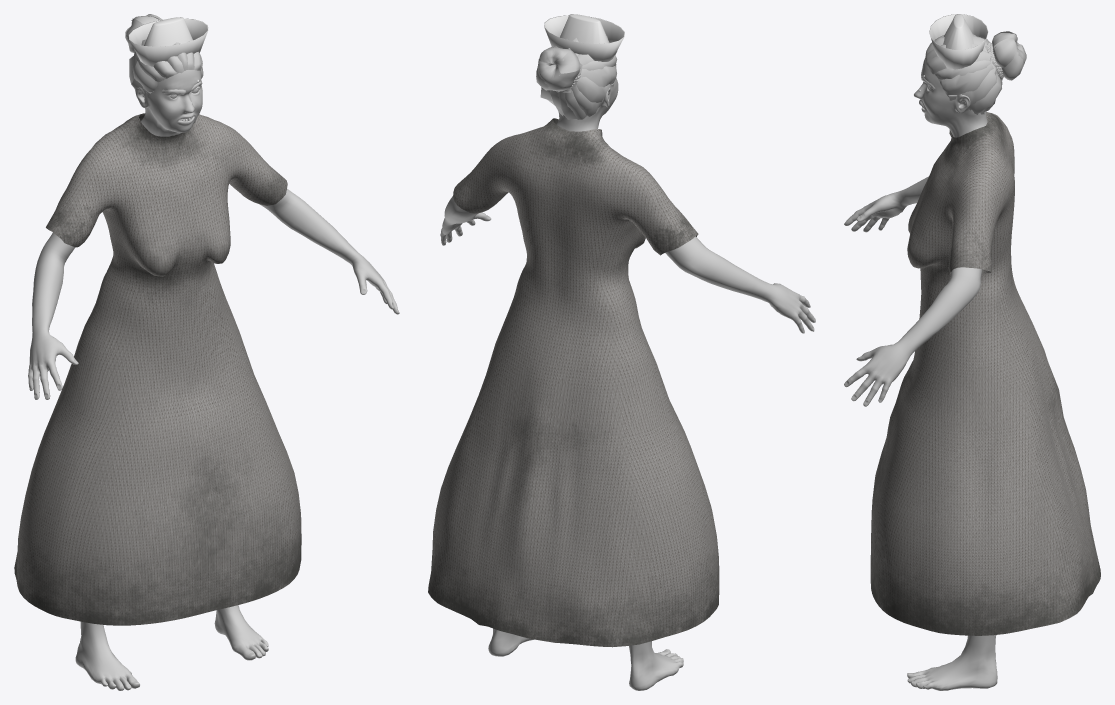
The model's file is Enfermeira.fbx.
3 views of the same model, side by side, from view 1: azimuth 30°, elevation 25°; view 2: azimuth 150°, elevation 25°; view 3: azimuth 270°, elevation 25° (orthographic).
Visible parts, largest first — view 1: Vestido, enfermeira-base, Chapeu, cabelo-wig_bun_blonde; view 2: Vestido, enfermeira-base, cabelo-wig_bun_blonde, Chapeu; view 3: Vestido, enfermeira-base, cabelo-wig_bun_blonde, Chapeu.
Boxes of the visible parts, bbox=[...] form: Vestido: bbox=[14, 113, 301, 625]; enfermeira-base: bbox=[28, 70, 399, 690]; Chapeu: bbox=[128, 17, 208, 66]; cabelo-wig_bun_blonde: bbox=[125, 14, 203, 97]; Vestido: bbox=[428, 118, 719, 647]; enfermeira-base: bbox=[440, 64, 815, 690]; cabelo-wig_bun_blonde: bbox=[536, 36, 617, 119]; Chapeu: bbox=[544, 14, 624, 61]; Vestido: bbox=[870, 112, 1100, 635]; enfermeira-base: bbox=[844, 58, 997, 690]; cabelo-wig_bun_blonde: bbox=[925, 31, 1026, 114]; Chapeu: bbox=[929, 14, 988, 69].
Bounding box in the file's own units: 104 × 174 × 64.08.
